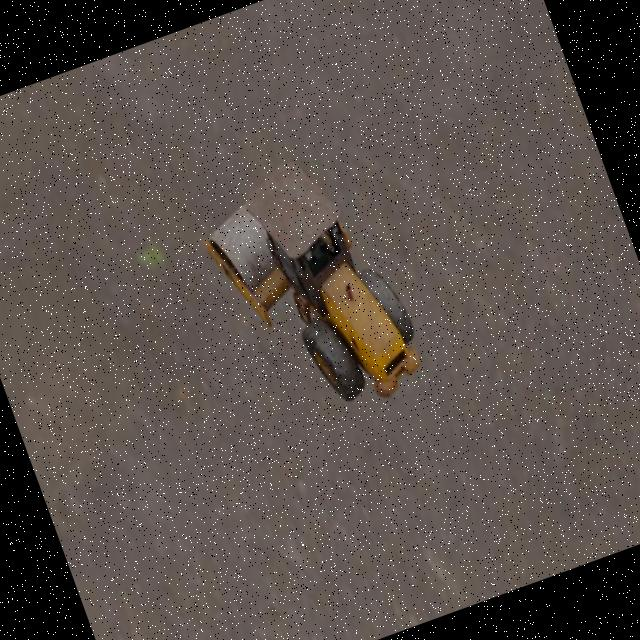Roller: (187, 141, 434, 440)
